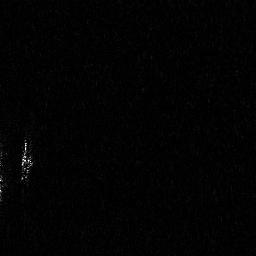ship: (18, 132, 34, 188)
